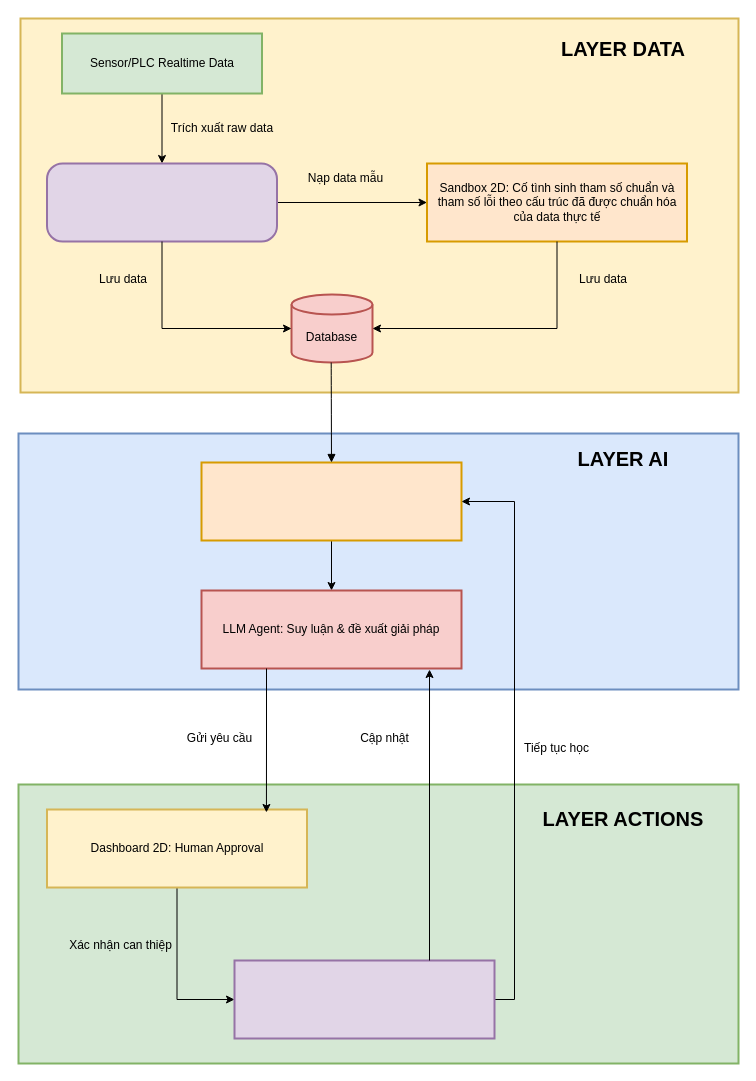
The diagram is 756 pixels wide and 1081 high, and some of its shapes have lost their labels. Here are the shapes that lost their labels. From the top down, the box of each, then its label:
(46, 162, 278, 242): Chuẩn hóa & Mapping Machine ID
(200, 461, 462, 541): ML Prediction: Phát hiện bất thường
(233, 959, 495, 1039): Thiết bị / Hệ thống cảnh báo
